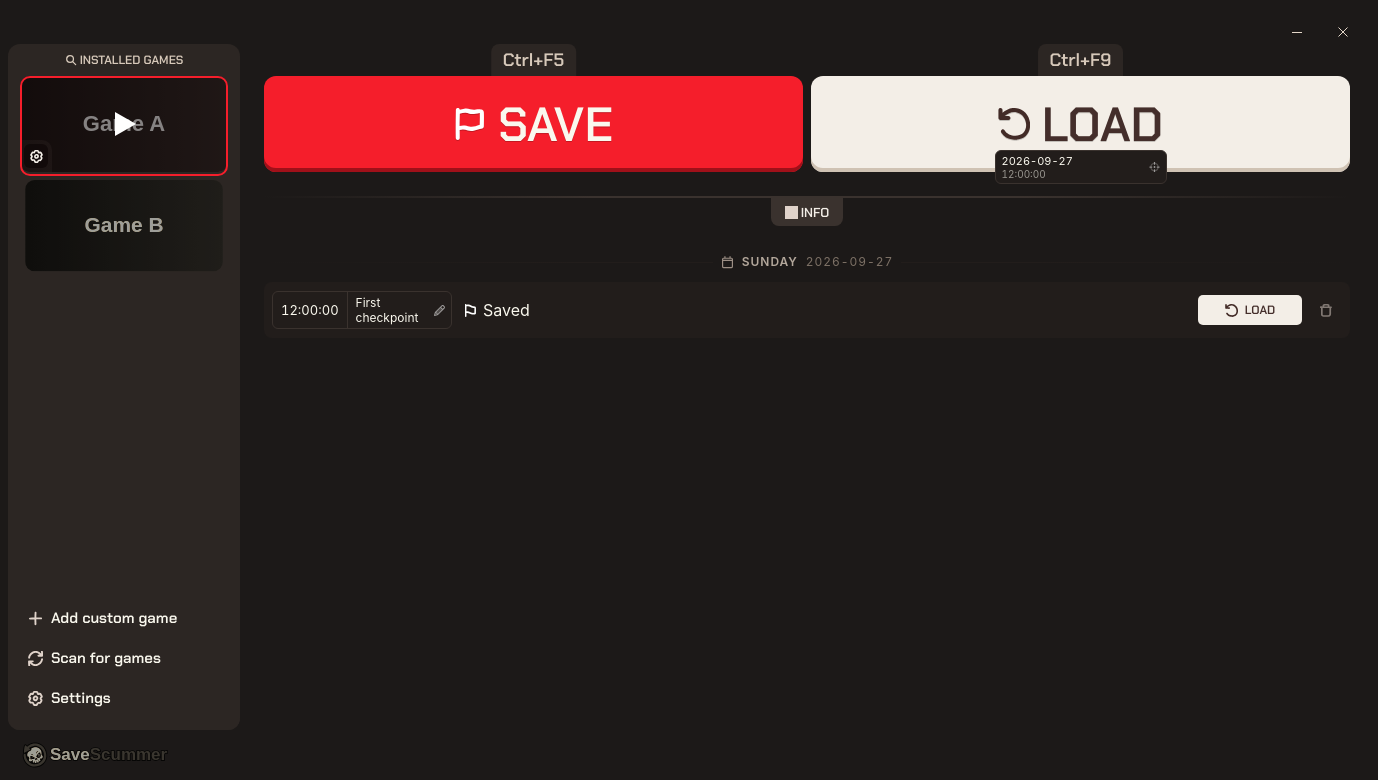
Test: Info reveals the full game instructions only when requested
Step 1. Click the button "Info" → (807, 212), box left=771, top=198, right=843, bottom=226
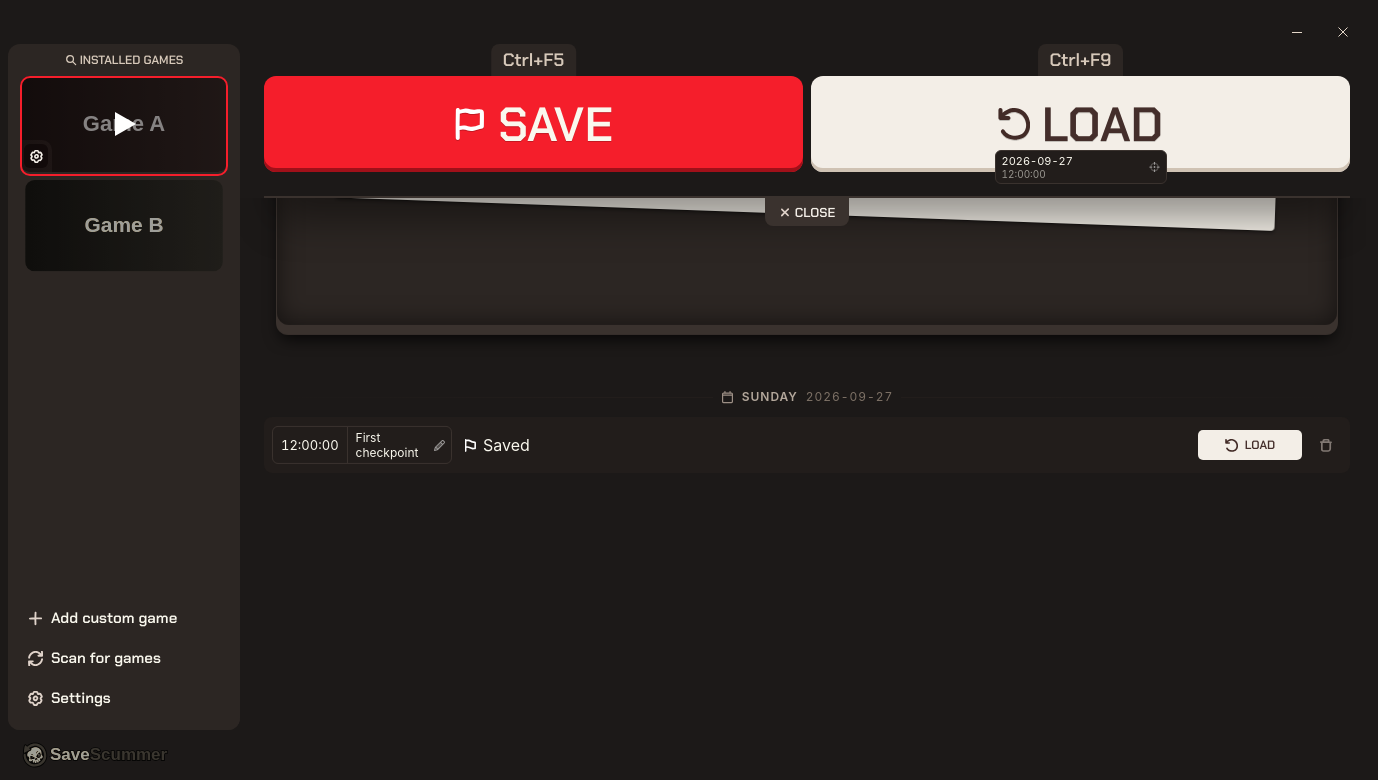
Check: the text "How progress is saved: The save is overwritten" is shown, box left=377, top=310, right=761, bottom=335
Check: the button named "Info" is expanded
Check: the button named "Info" reads "Close"
Step 2. Click the button named "Info" → (807, 212), box left=765, top=198, right=849, bottom=226
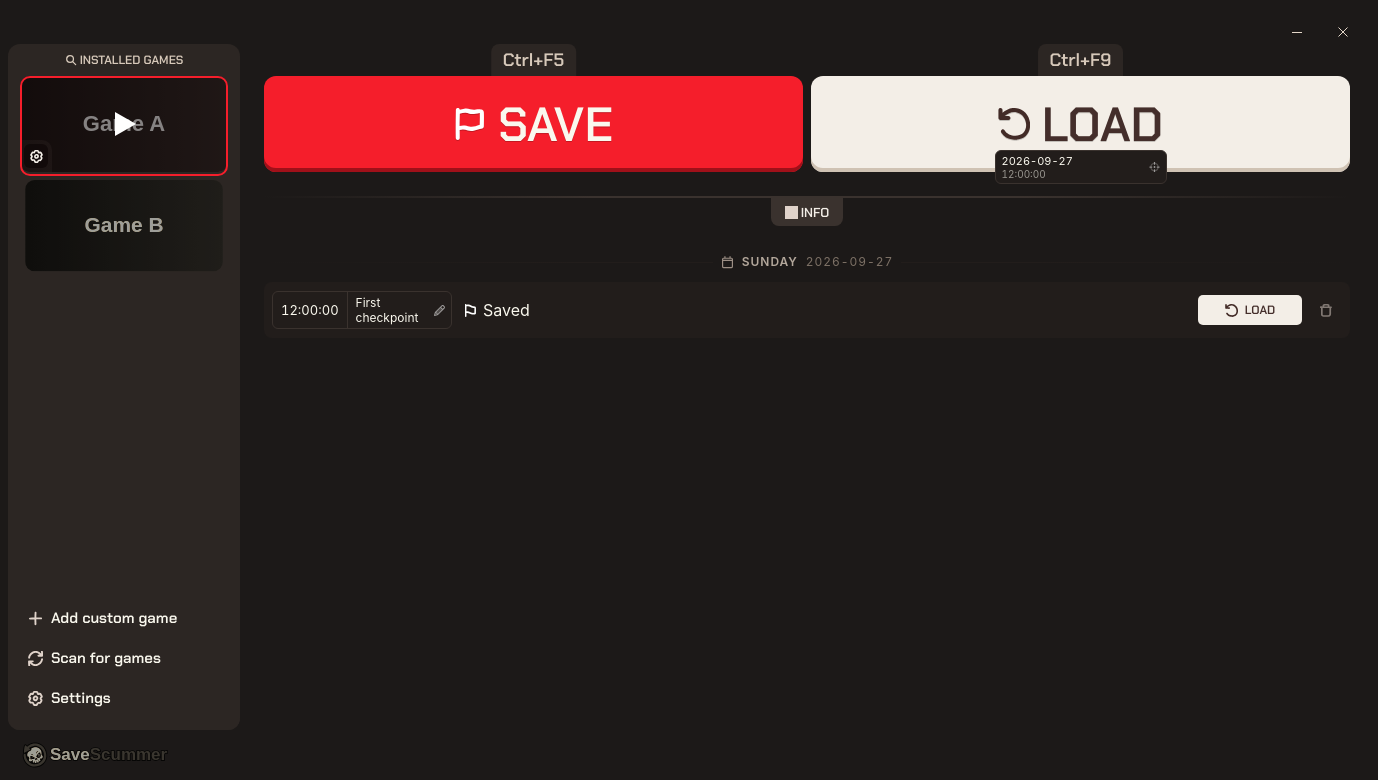
Check: the button "Info" is collapsed, box left=771, top=198, right=843, bottom=226
